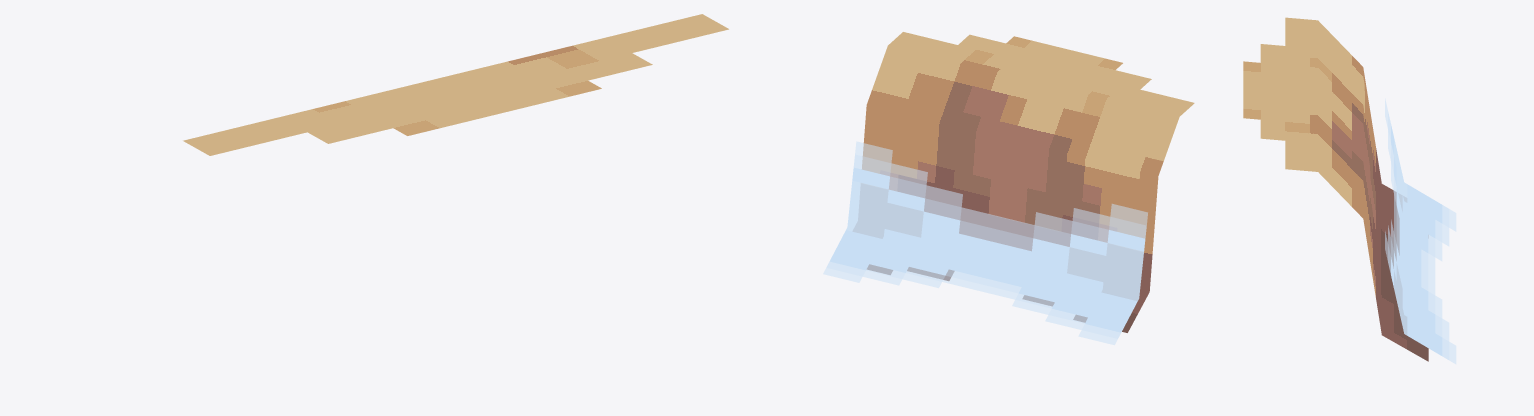
The picture shows the model from 3 angles, left to right: view 1: azimuth 30°, elevation 25°; view 2: azimuth 150°, elevation 25°; view 3: azimuth 270°, elevation 25°; orthographic projection. The views are drawn at different scales.
Bounding box in the file's own units: 1 × 0.7266 × 0.7695.
Materials: 2 (2 with a texture image).
